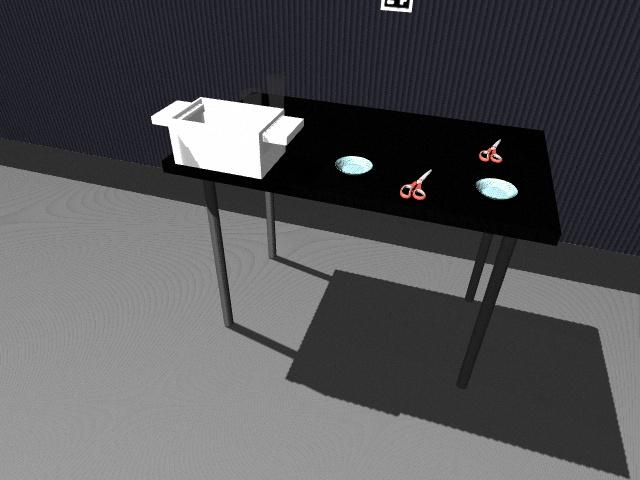cup: (265, 75, 286, 109), (240, 91, 266, 108)
plate: (474, 176, 521, 201), (334, 155, 374, 176)
scissors: (399, 168, 431, 201), (479, 138, 503, 163)
